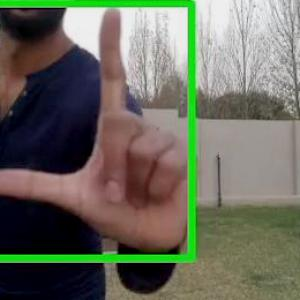land_hand: (1, 12, 200, 236)
